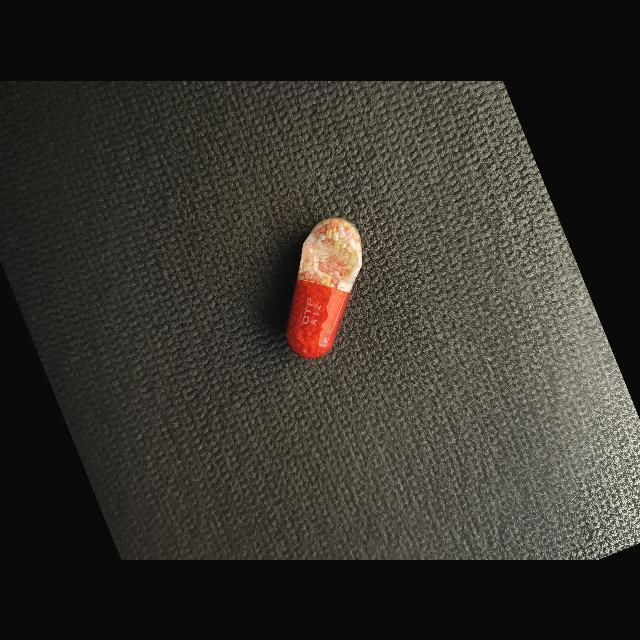Defective Capsule: (287, 217, 362, 358)
